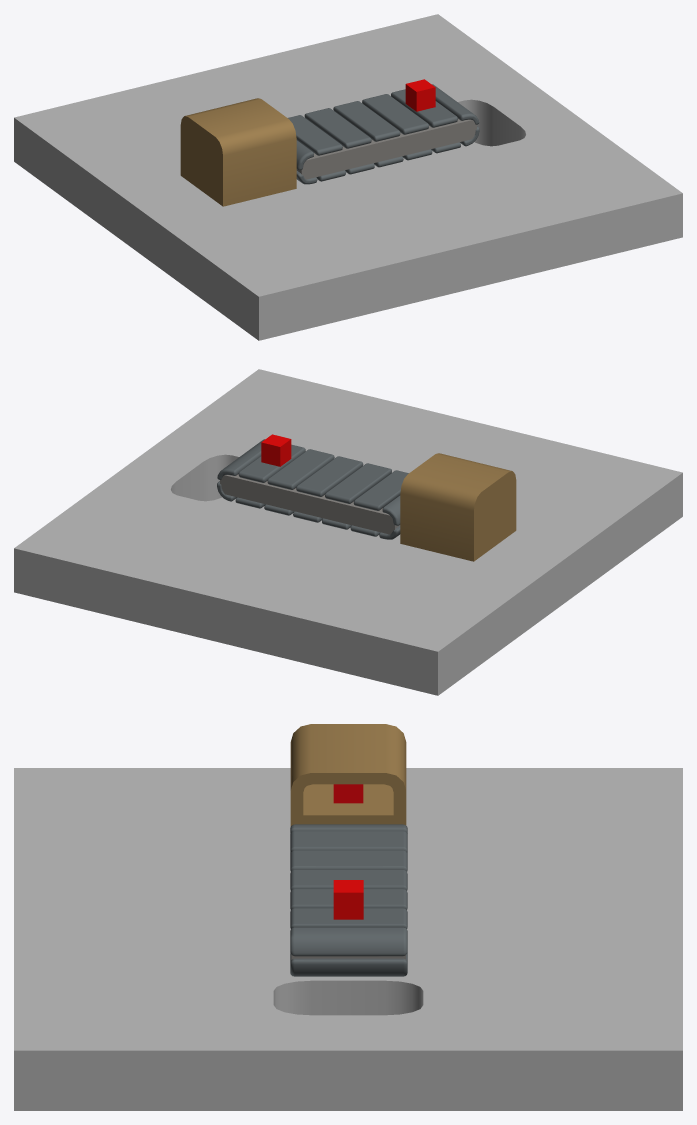
File: FactoryBeltColor.fbx
3 renders of one model, top to bottom at view 1: azimuth 30°, elevation 25°; view 2: azimuth 150°, elevation 25°; view 3: azimuth 270°, elevation 25°, orthographic. The views are drawn at different scales.
Visible parts, largest first — view 1: Plane.004, Plane.003, Plane.001, Plane.002, Cube.004; view 2: Plane.004, Plane.003, Plane.001, Plane.002, Cube.004; view 3: Plane.004, Plane.001, Plane.003, Cube.004, Cube.002.
Boxes of the visible parts, x1=… form: Plane.004: x1=14, y1=14, x2=682, y2=340; Plane.003: x1=180, y1=98, x2=296, y2=206; Plane.001: x1=288, y1=84, x2=479, y2=184; Plane.002: x1=297, y1=119, x2=476, y2=179; Cube.004: x1=405, y1=79, x2=435, y2=111; Plane.004: x1=14, y1=369, x2=682, y2=695; Plane.003: x1=400, y1=453, x2=516, y2=561; Plane.001: x1=217, y1=439, x2=408, y2=539; Plane.002: x1=220, y1=474, x2=399, y2=534; Cube.004: x1=261, y1=434, x2=291, y2=466; Plane.004: x1=14, y1=768, x2=682, y2=1110; Plane.001: x1=290, y1=824, x2=407, y2=976; Plane.003: x1=290, y1=724, x2=406, y2=826; Cube.004: x1=333, y1=880, x2=363, y2=919; Cube.002: x1=333, y1=784, x2=363, y2=803.
Size of the model in its own units: 1155 by 282 by 1155.
